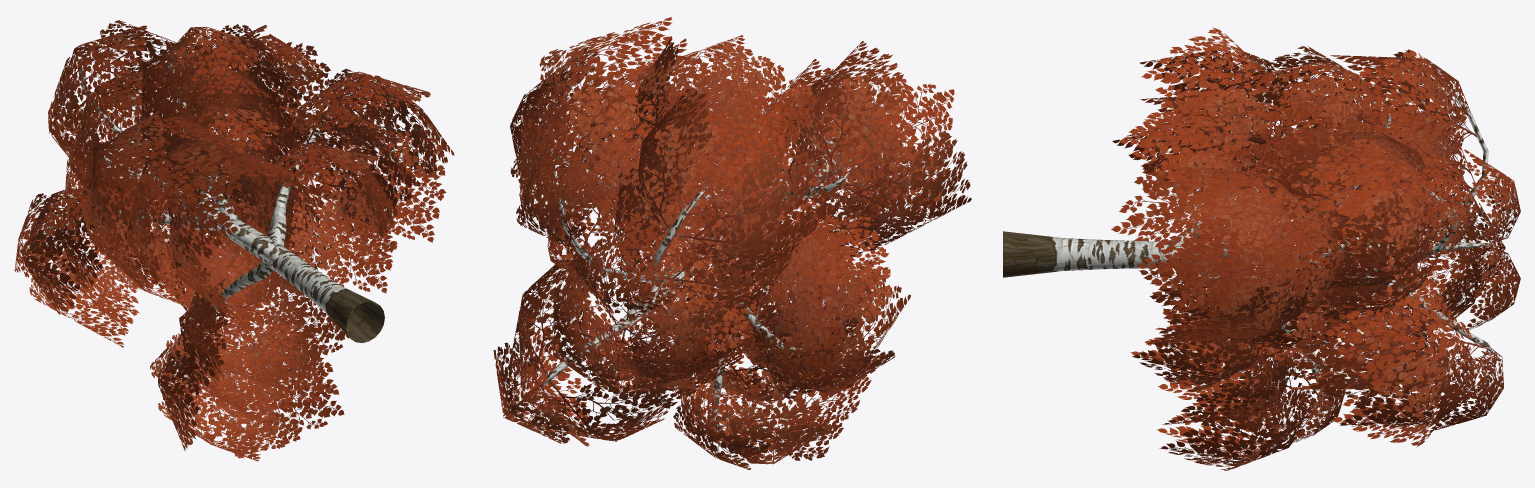
The model's file is birch_lod.fbx.
The picture shows the model from 3 angles, left to right: view 1: azimuth 30°, elevation 25°; view 2: azimuth 150°, elevation 25°; view 3: azimuth 270°, elevation 25°; orthographic projection. The views are drawn at different scales.
Parts seen in each view (by area): view 1: Birch_tree1_LOD0; view 2: Birch_tree1_LOD0; view 3: Birch_tree1_LOD0.
Part boxes in pixels (x1,y1,x2,y2): Birch_tree1_LOD0: (14,20,454,461); Birch_tree1_LOD0: (493,17,971,469); Birch_tree1_LOD0: (1003,27,1520,470).
Size of what is drawn, in the model's own units: 1252 by 1264 by 1355.
